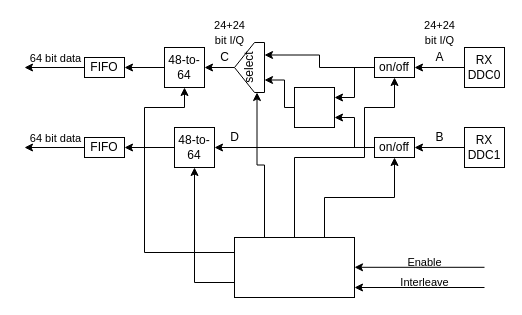
Image size: 522x315. Some labels were removed from this diagram. Here are the shapes that lost their labels. From the top down, the centre of each, then its label:
(x=314, y=107): inter-leave
(x=294, y=267): Control
